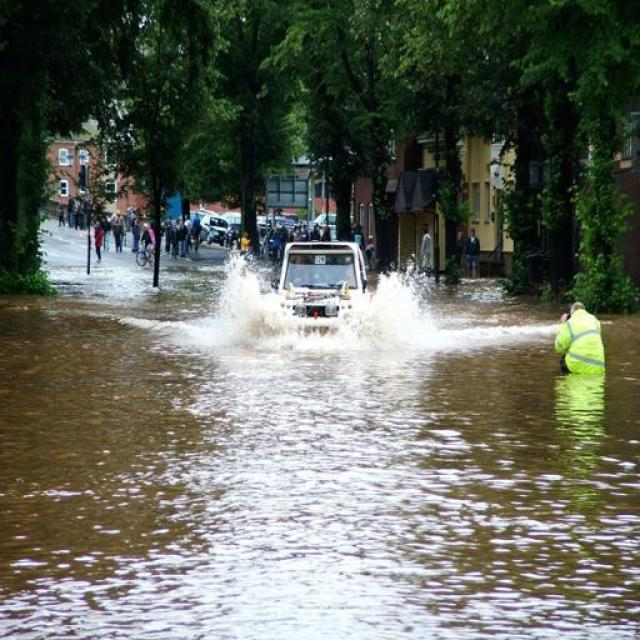puddle: (8, 327, 565, 640), (241, 383, 640, 640)
